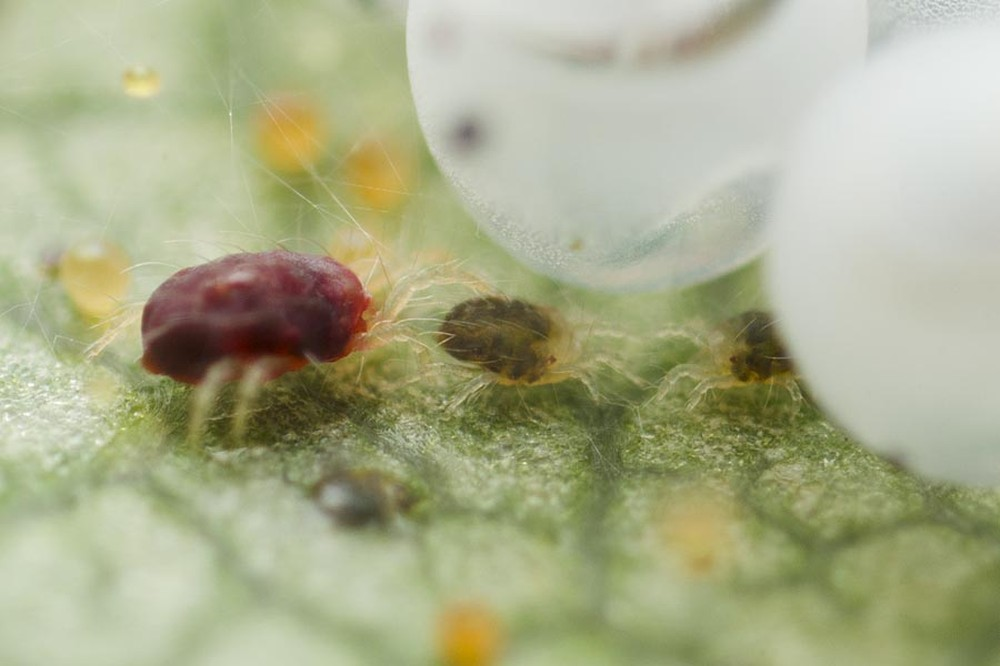Aracnido Rojo: (99, 224, 452, 442), (425, 267, 667, 438), (639, 284, 830, 443)
